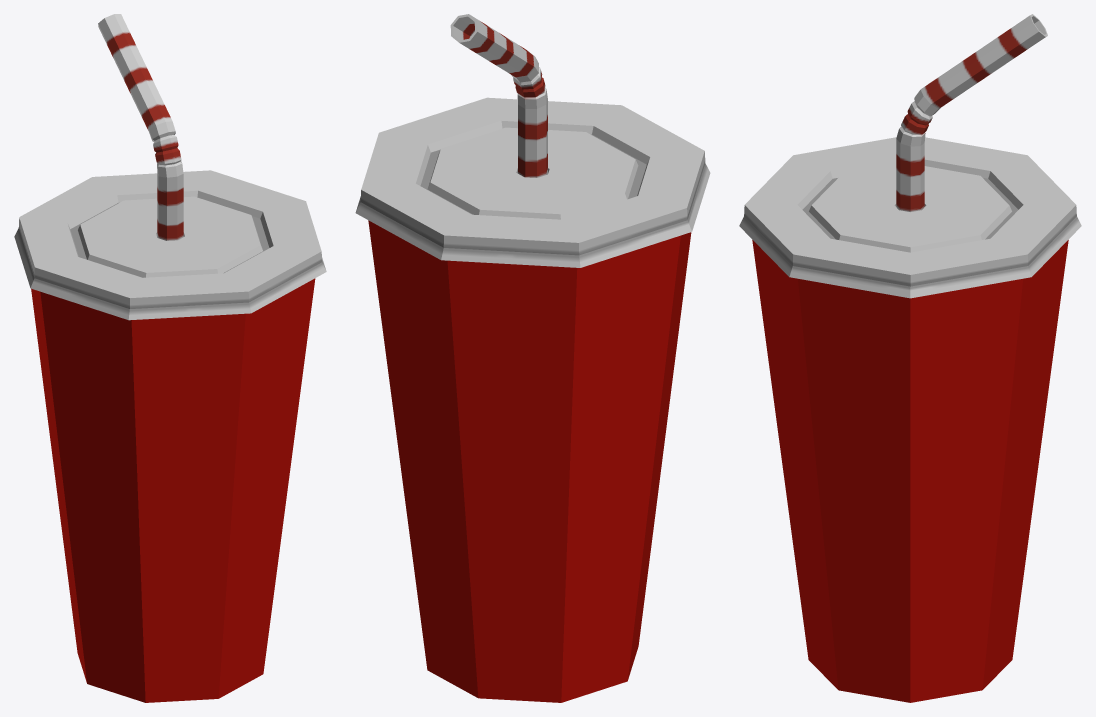
The model's file is Smoothie.fbx.
3 views of the same model, side by side, from view 1: azimuth 30°, elevation 25°; view 2: azimuth 150°, elevation 25°; view 3: azimuth 270°, elevation 25° (orthographic). The views are drawn at different scales.
Parts seen in each view (by area): view 1: Smoothie; view 2: Smoothie; view 3: Smoothie.
Part boxes in pixels (bbox=[...]): Smoothie: bbox=[14, 14, 326, 702]; Smoothie: bbox=[355, 14, 710, 702]; Smoothie: bbox=[739, 14, 1081, 702].
Size of the model in its own units: 118 by 244 by 118.
Materials: 1 (1 with a texture image).
